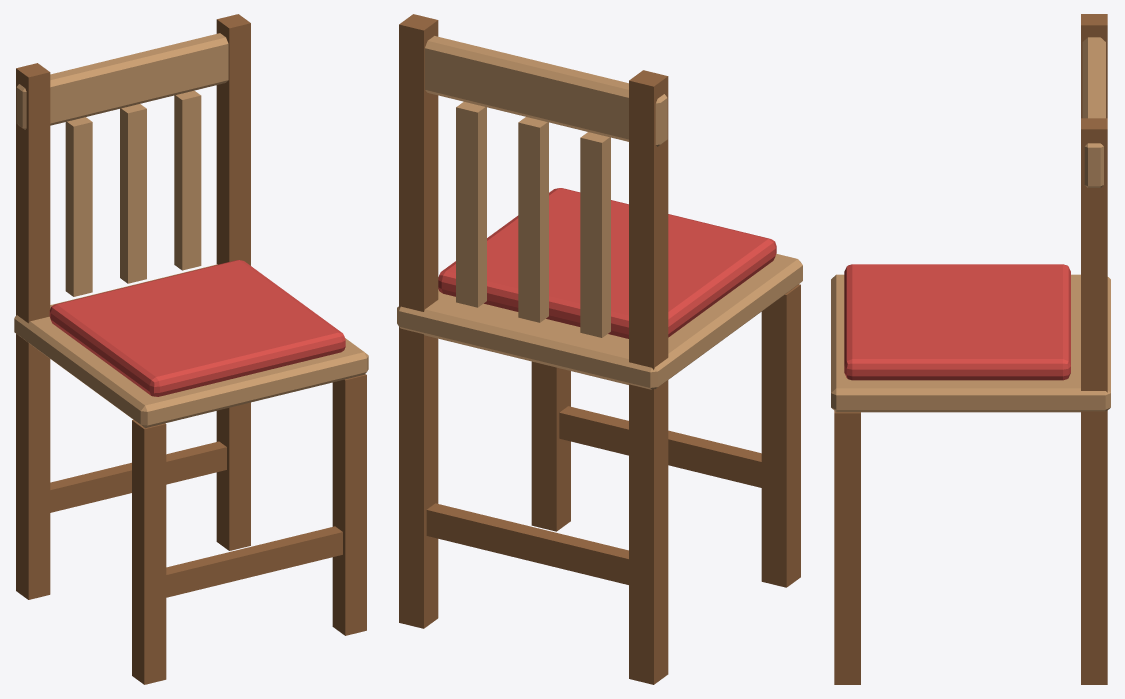
The model's file is chair.glb.
3 renders of one model, left to right at view 1: azimuth 30°, elevation 25°; view 2: azimuth 150°, elevation 25°; view 3: azimuth 270°, elevation 25°, orthographic. The views are drawn at different scales.
Parts seen in each view (by area): view 1: chair; view 2: chair; view 3: chair.
Part boxes in pixels (box(x1,y1,x2,y2)): chair: box(14, 14, 368, 684); chair: box(397, 14, 802, 684); chair: box(831, 14, 1110, 684).
Bounding box in the file's own units: 0.42 × 0.92 × 0.42.
Materials: 1 (1 with a texture image).
